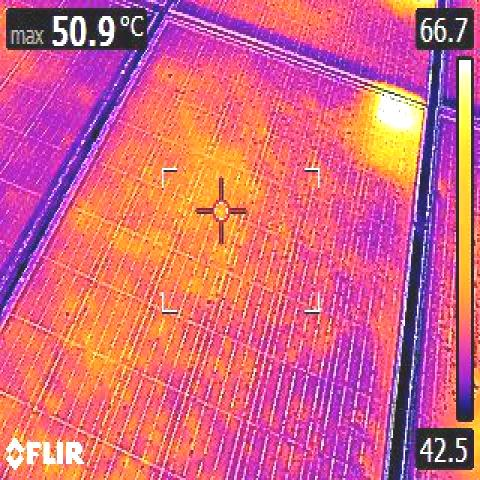fault: (382, 96, 412, 132)
